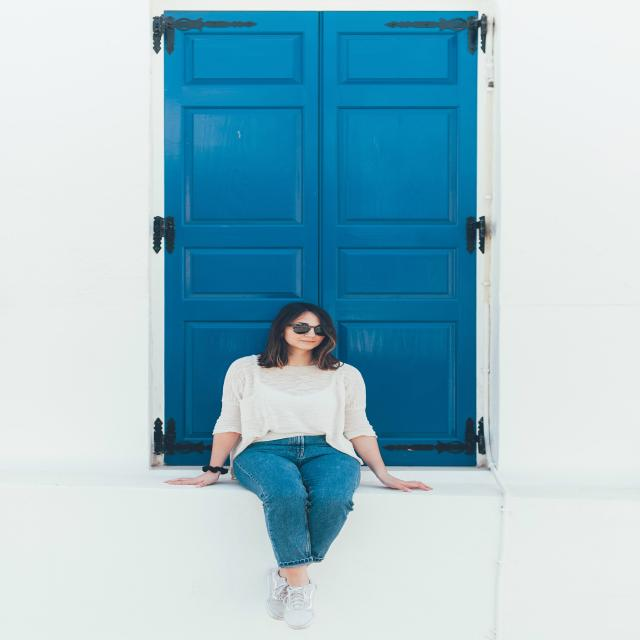adult: (164, 300, 432, 622)
